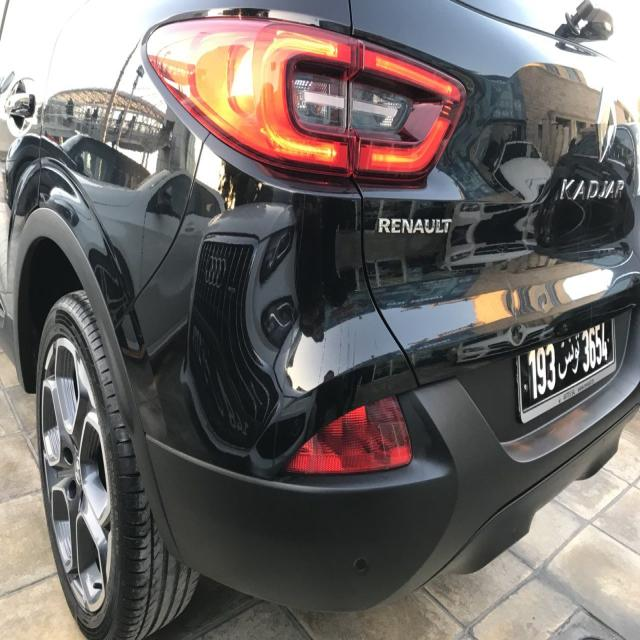LP: (518, 316, 614, 416)
